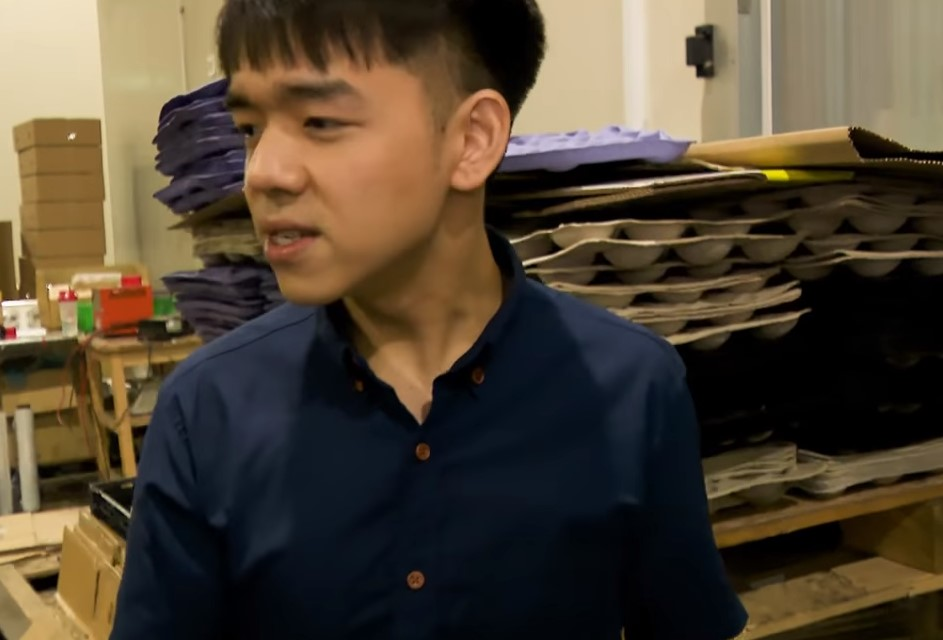face_no_mask: (214, 0, 548, 319)
